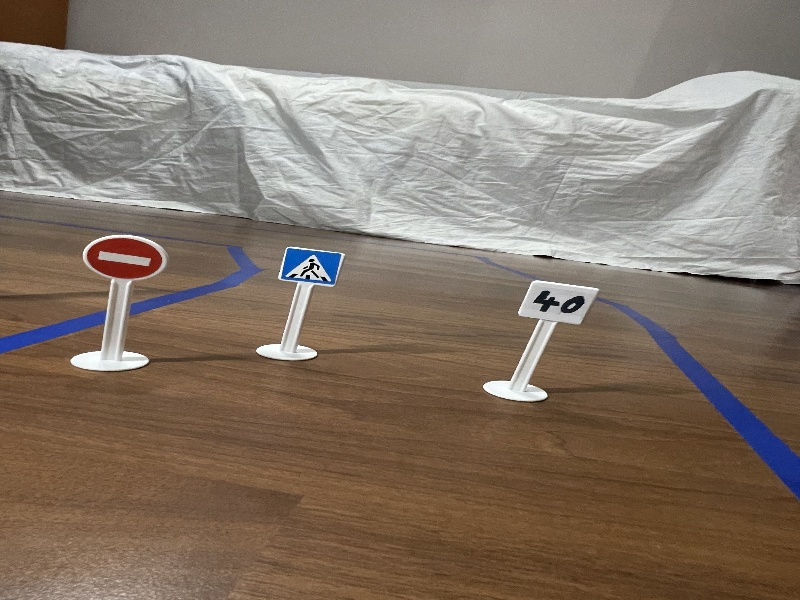interzis: (78, 226, 174, 289)
trecere_pietoni: (272, 239, 346, 295)
viteza_limita_40: (514, 263, 599, 336)
